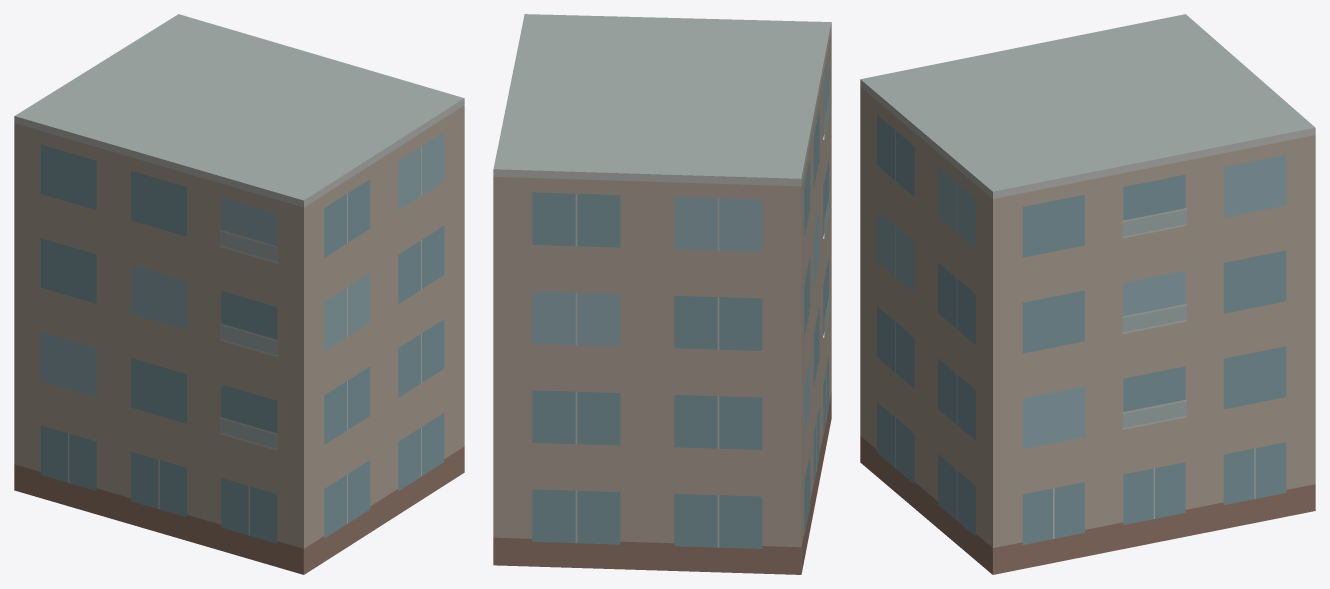
File: survey-upis-32753984.glb
3 views of the same model, side by side, from view 1: azimuth 30°, elevation 25°; view 2: azimuth 150°, elevation 25°; view 3: azimuth 270°, elevation 25° (orthographic). The views are drawn at different scales.
Parts seen in each view (by area): view 1: survey-upis-32753984.tmp; view 2: survey-upis-32753984.tmp; view 3: survey-upis-32753984.tmp.
Part boxes in pixels (<box>): survey-upis-32753984.tmp: <box>14,14,464,574</box>; survey-upis-32753984.tmp: <box>493,14,831,574</box>; survey-upis-32753984.tmp: <box>860,14,1315,574</box>.
Bounding box in the file's own units: 12.74 × 12.8 × 13.8.
